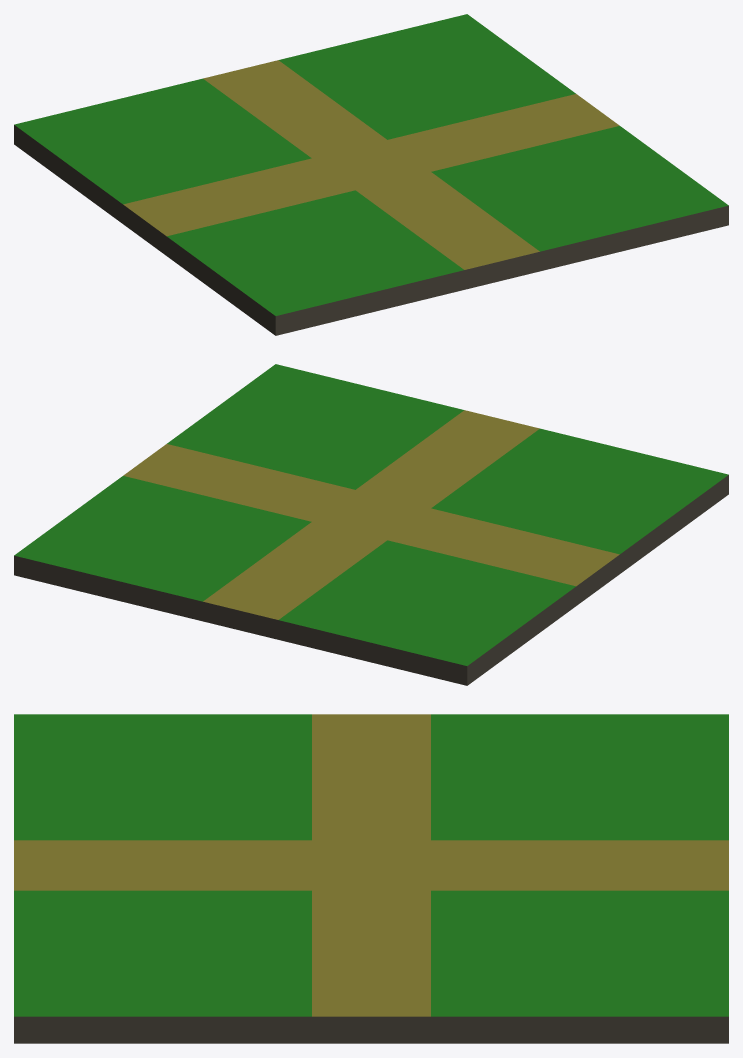
Rendered from hub.obj.
3 views of the same model, one above another, from view 1: azimuth 30°, elevation 25°; view 2: azimuth 150°, elevation 25°; view 3: azimuth 270°, elevation 25° (orthographic). The views are drawn at different scales.
Parts seen in each view (by area): view 1: hub; view 2: hub; view 3: hub.
Part boxes in pixels (x1,y1,x2,y2): hub: (14,14,728,335); hub: (14,364,728,685); hub: (14,714,728,1043).
Bounding box in the file's own units: 12 × 0.5 × 12.
